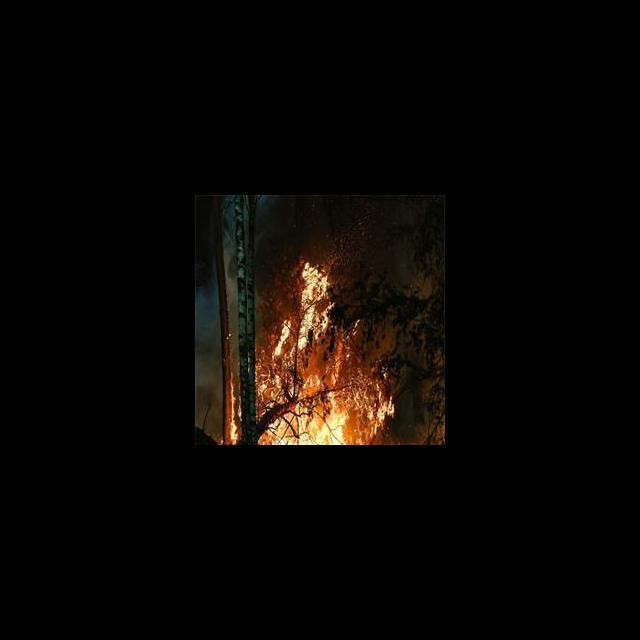Fire: (227, 257, 399, 444)
